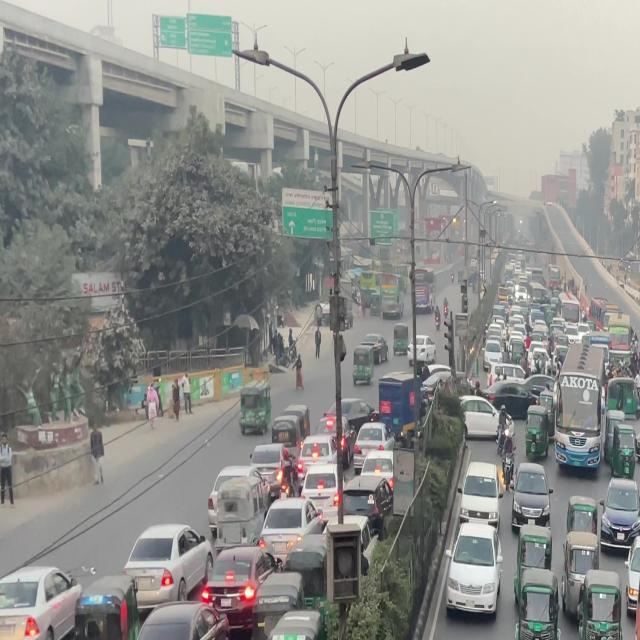bus: (551, 373, 604, 474), (633, 526, 640, 640)
car: (124, 526, 210, 610), (0, 568, 84, 640), (445, 524, 503, 621), (121, 605, 221, 640), (598, 477, 640, 549), (508, 467, 550, 530), (634, 416, 640, 478)
rickshaw: (70, 573, 135, 640), (254, 603, 326, 640)
